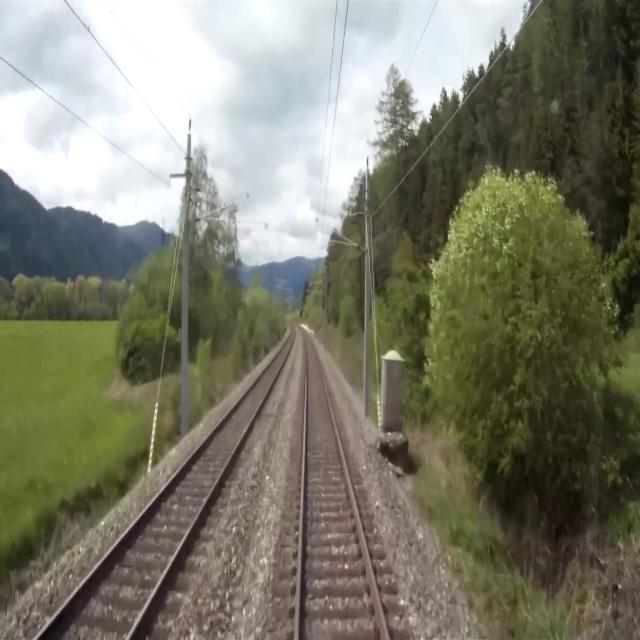rail-track: (41, 328, 293, 639), (299, 330, 385, 639)
